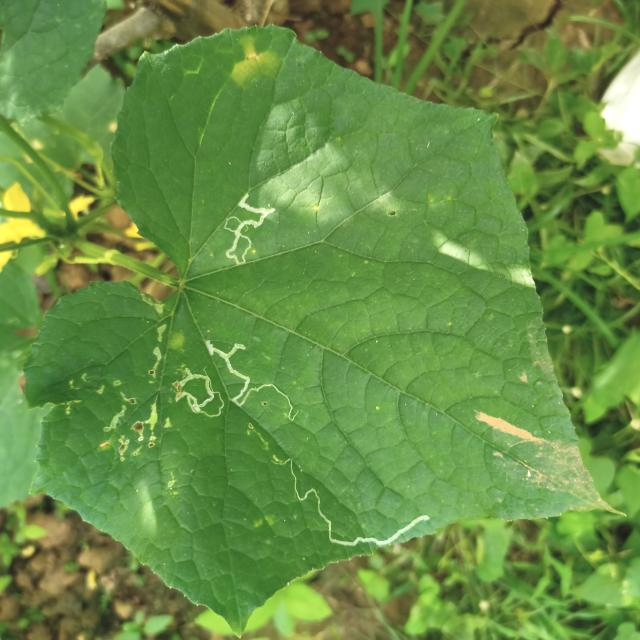disease_cucumber: (234, 34, 275, 88)
